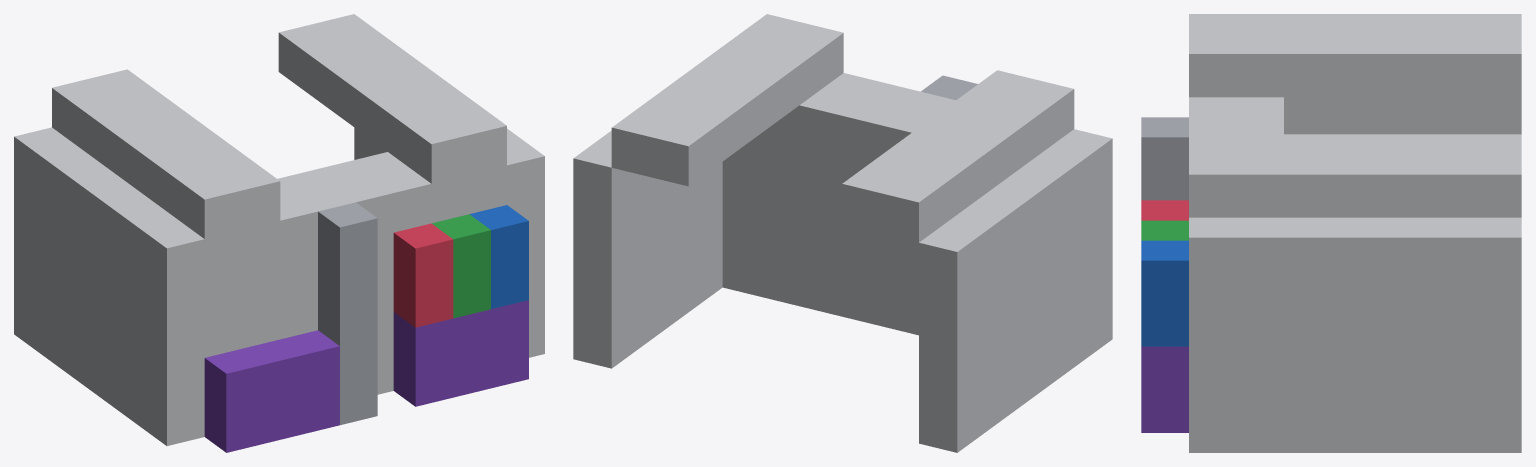
Rendered from gear_erfinder_vest.glb.
3 renders of one model, left to right at view 1: azimuth 30°, elevation 25°; view 2: azimuth 150°, elevation 25°; view 3: azimuth 270°, elevation 25°, orthographic. The views are drawn at different scales.
Parts seen in each view (by area): view 1: body; view 2: body; view 3: body.
Boxes of the visible parts, bbox=[...] form: body: bbox=[14, 14, 544, 452]; body: bbox=[573, 14, 1112, 452]; body: bbox=[1141, 14, 1521, 452].
Bounding box in the file's own units: 0.6 × 0.36 × 0.48.
